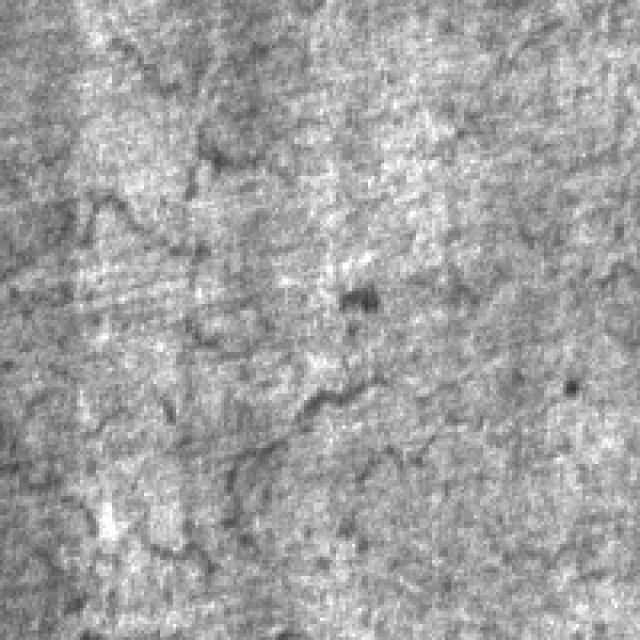crazing: (6, 371, 461, 586), (38, 118, 294, 362)
